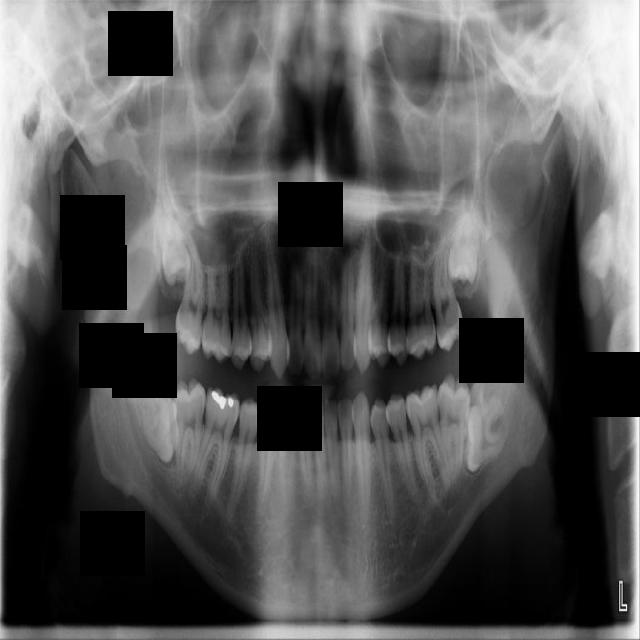3M ESPE Implant: (155, 205, 193, 287)
52: (193, 383, 246, 441)
73: (607, 591, 611, 594)
BioHorizons Implant: (429, 239, 465, 352)
BioLife Implant: (445, 197, 486, 286)
Biomet 3i Implant: (462, 394, 510, 472)
Blue Sky Bio Implant: (434, 373, 471, 478)
Caries: (174, 231, 206, 356)
Implant: (171, 375, 209, 492)
Keystone Dental Implant: (139, 377, 181, 464)
